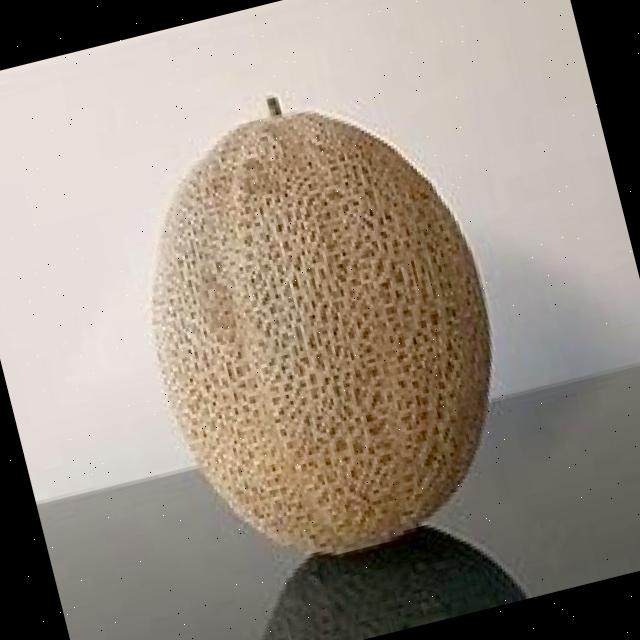Hami Melon: (104, 79, 539, 588)
